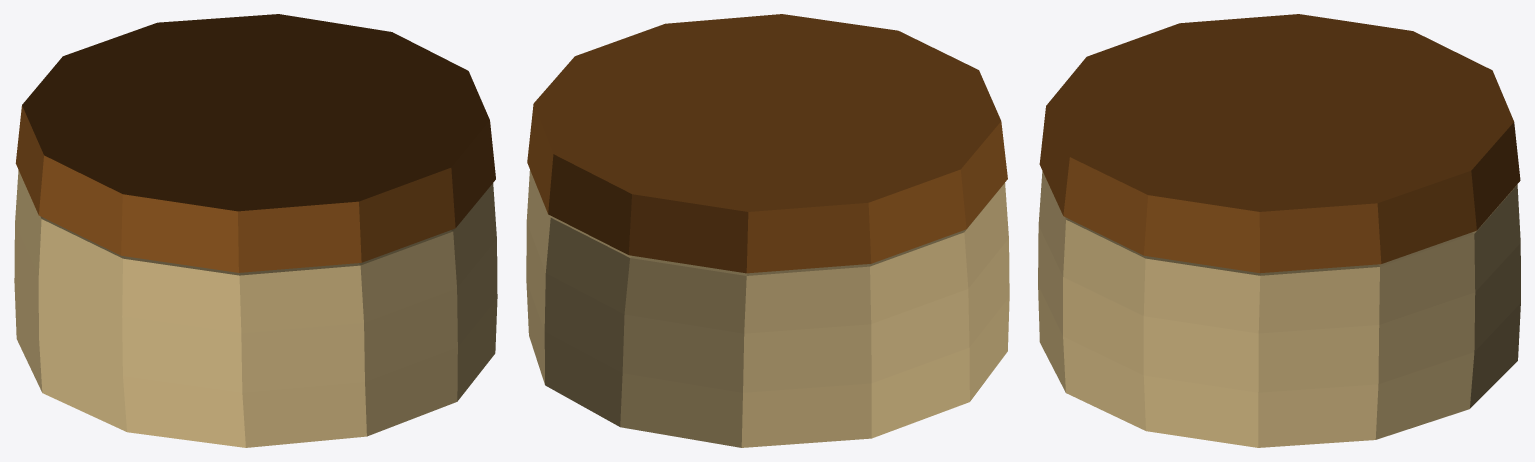
Rendered from Stool 3.fbx.
The picture shows the model from 3 angles, left to right: view 1: azimuth 30°, elevation 25°; view 2: azimuth 150°, elevation 25°; view 3: azimuth 270°, elevation 25°; orthographic projection.
Parts seen in each view (by area): view 1: Node 0; view 2: Node 0; view 3: Node 0.
Boxes of the visible parts, <box> form: Node 0: <box>14,14,497,447</box>; Node 0: <box>526,14,1009,447</box>; Node 0: <box>1038,14,1520,447</box>.
Size of the model in its own units: 0.9014 by 0.4846 by 0.9026.
